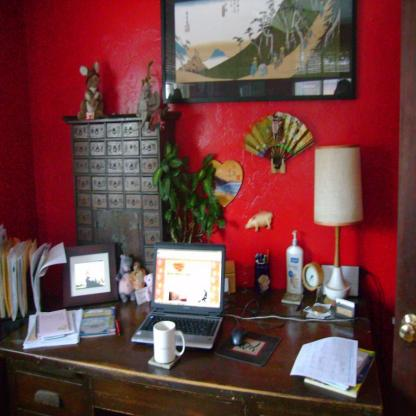board: (132, 240, 226, 350), (286, 230, 304, 296)
